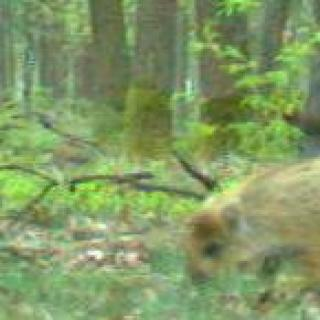Pig: (174, 147, 318, 320)
